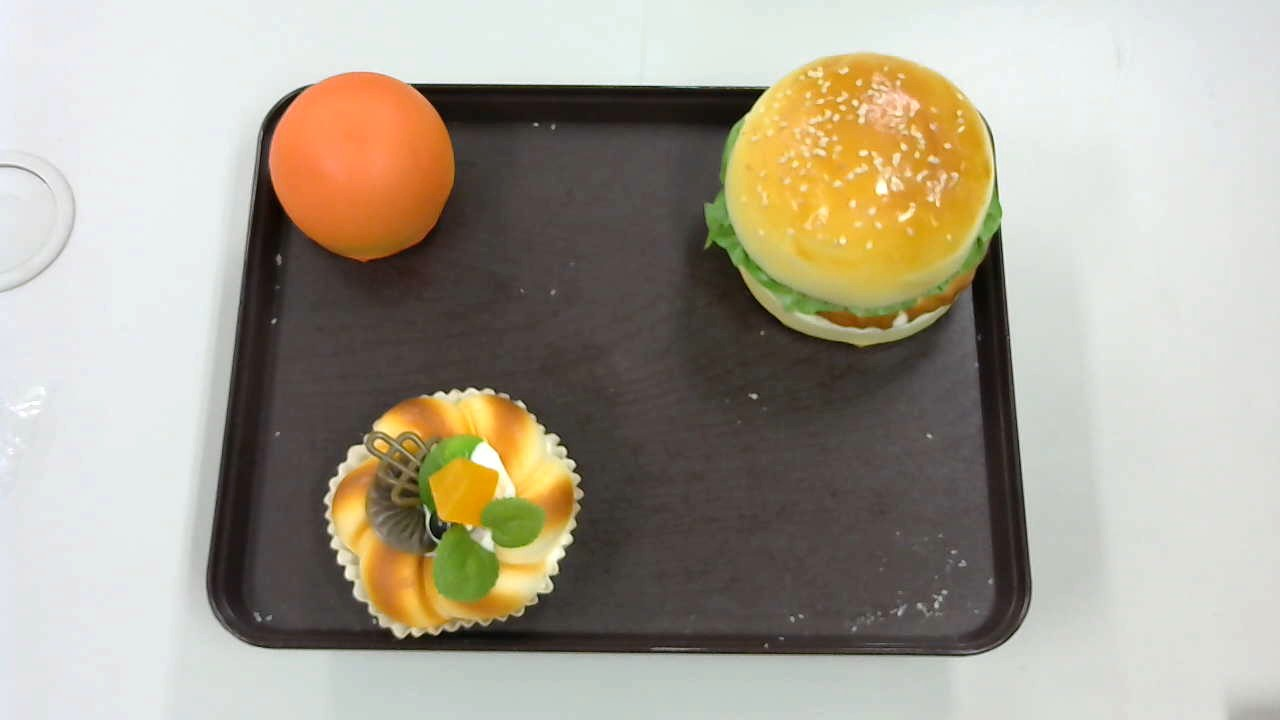bun: (270, 73, 455, 261)
fruit tart: (324, 386, 584, 641)
hamburger: (705, 52, 1004, 349)
